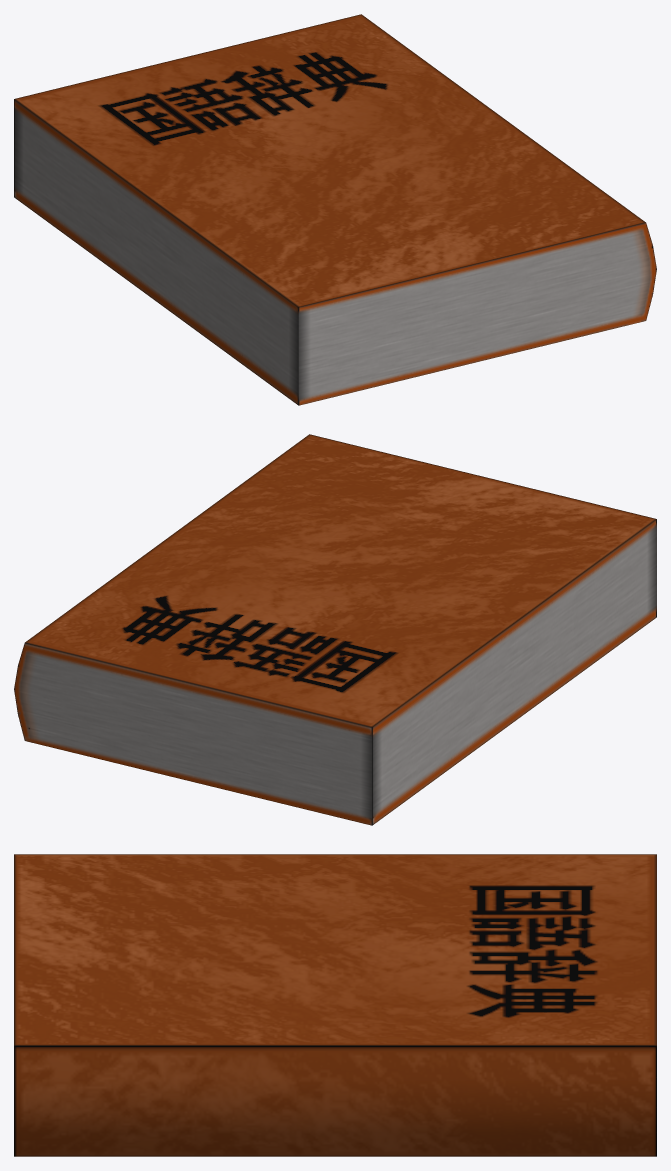
File: dictionary.fbx
3 views of the same model, one above another, from view 1: azimuth 30°, elevation 25°; view 2: azimuth 150°, elevation 25°; view 3: azimuth 270°, elevation 25° (orthographic). The views are drawn at different scales.
Parts seen in each view (by area): view 1: book; view 2: book; view 3: book.
Part boxes in pixels (box(x1,y1,x2,y2)): book: box(14, 14, 656, 405); book: box(14, 434, 656, 825); book: box(14, 854, 656, 1156).
Bounding box in the file's own units: 15.26 × 4 × 21.
1 material, 1 textured.
